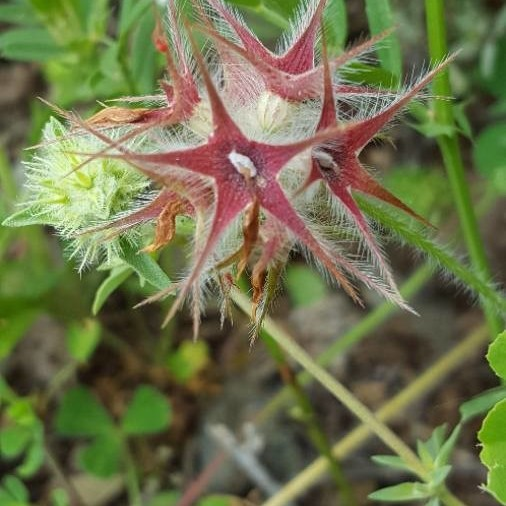obstacle: (19, 28, 427, 307)
